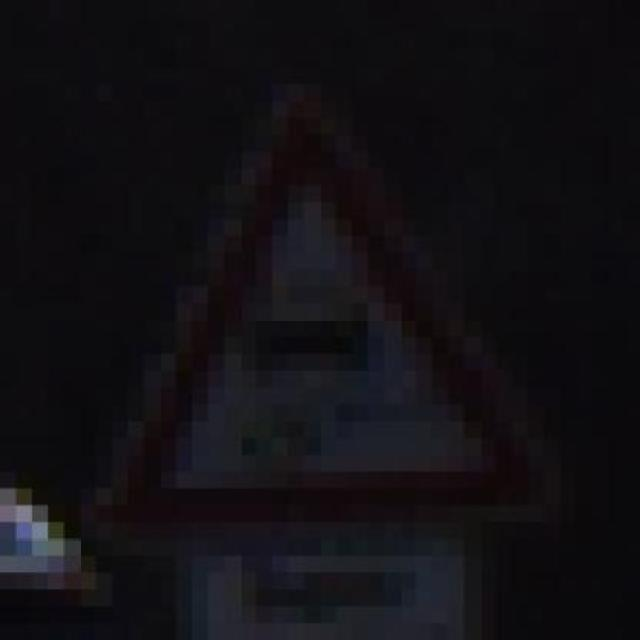Slippery Road Ahead: (95, 67, 560, 556)
